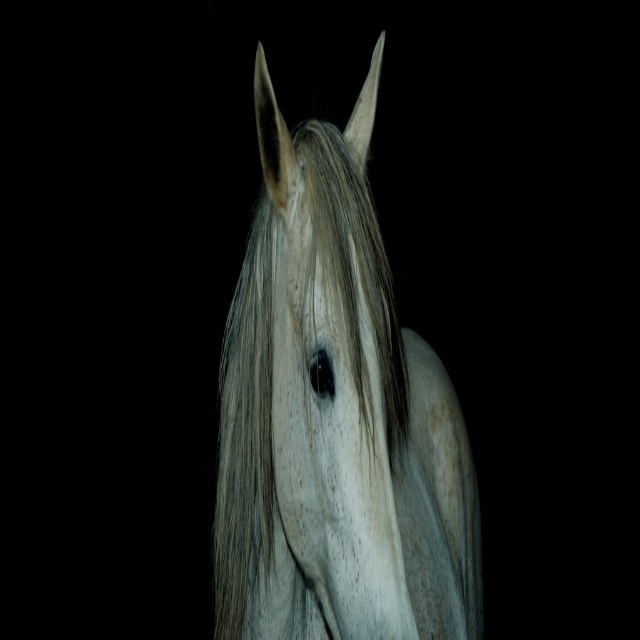Horse: (209, 21, 484, 639)
